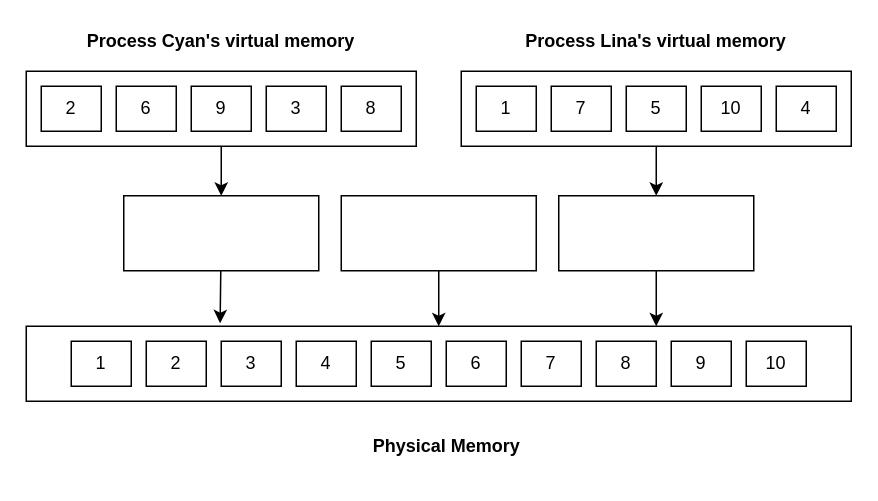
Some shapes in this 878 by 501 pixel diagram are drawn without their labels. Each missing label, with the centre of its shape:
"Cyan's page table" belongs at [220,232].
"Kernel page table" belongs at [438,232].
"Lina's page table" belongs at [655,232].
